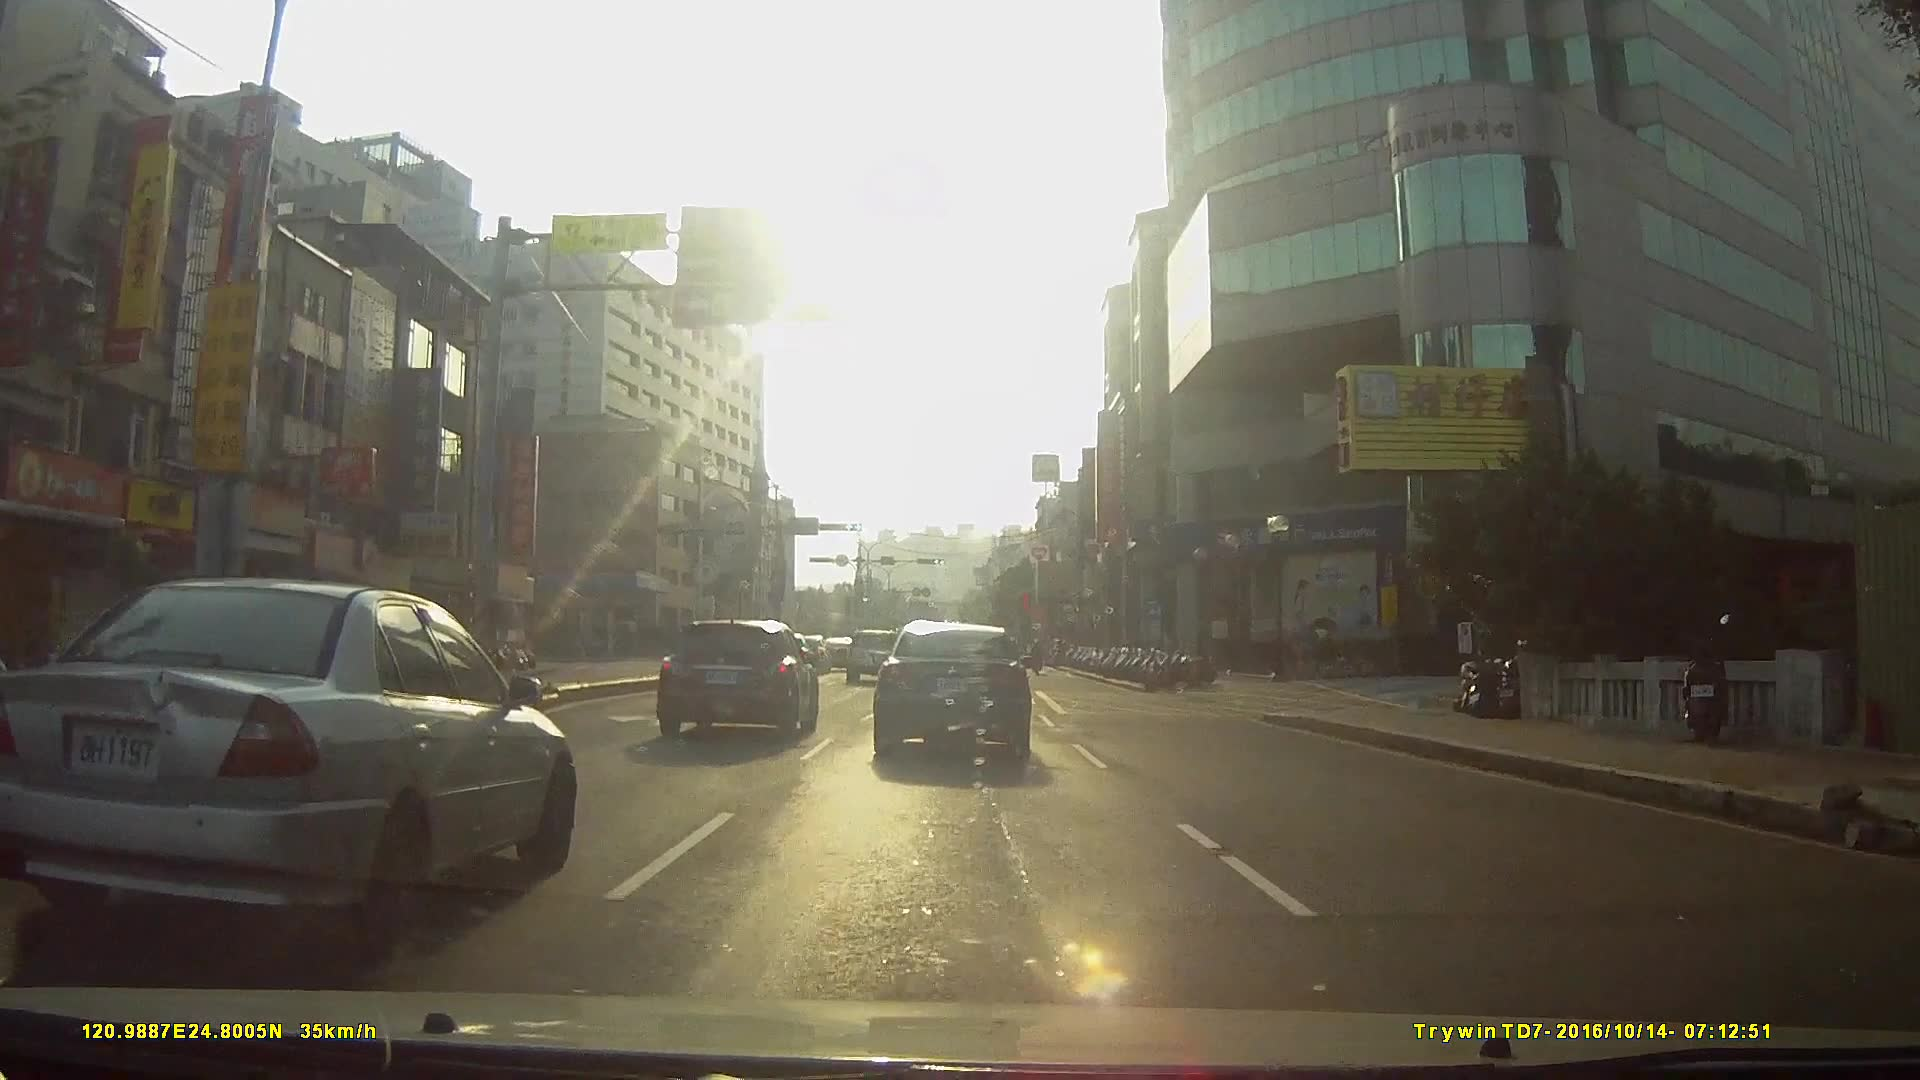vehicle: (0, 572, 574, 955), (872, 616, 1033, 764), (653, 611, 819, 738), (844, 625, 905, 683), (816, 634, 857, 673)
